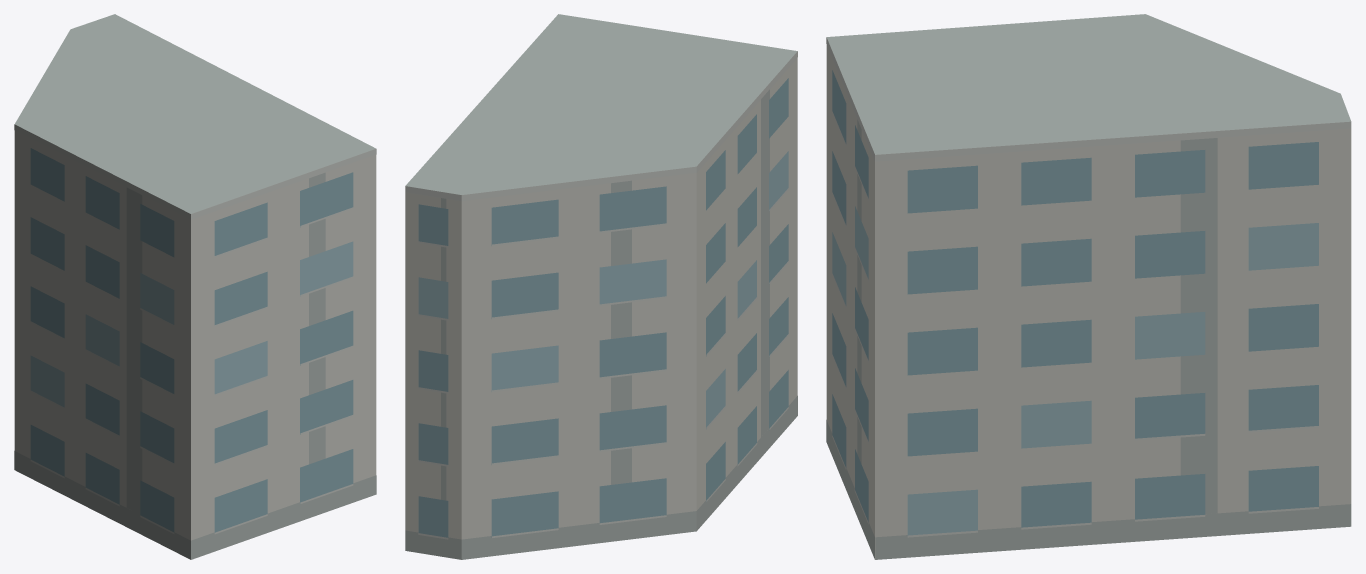
Rendered from survey-upis-32817951.glb.
The picture shows the model from 3 angles, left to right: view 1: azimuth 30°, elevation 25°; view 2: azimuth 150°, elevation 25°; view 3: azimuth 270°, elevation 25°; orthographic projection. The views are drawn at different scales.
Parts seen in each view (by area): view 1: survey-upis-32817951.tmp; view 2: survey-upis-32817951.tmp; view 3: survey-upis-32817951.tmp.
Boxes of the visible parts, x1=… form: survey-upis-32817951.tmp: x1=14, y1=14, x2=376, y2=559; survey-upis-32817951.tmp: x1=405, y1=14, x2=797, y2=559; survey-upis-32817951.tmp: x1=826, y1=14, x2=1351, y2=559.
Size of the model in its own units: 10.68 by 14.3 by 16.81.
